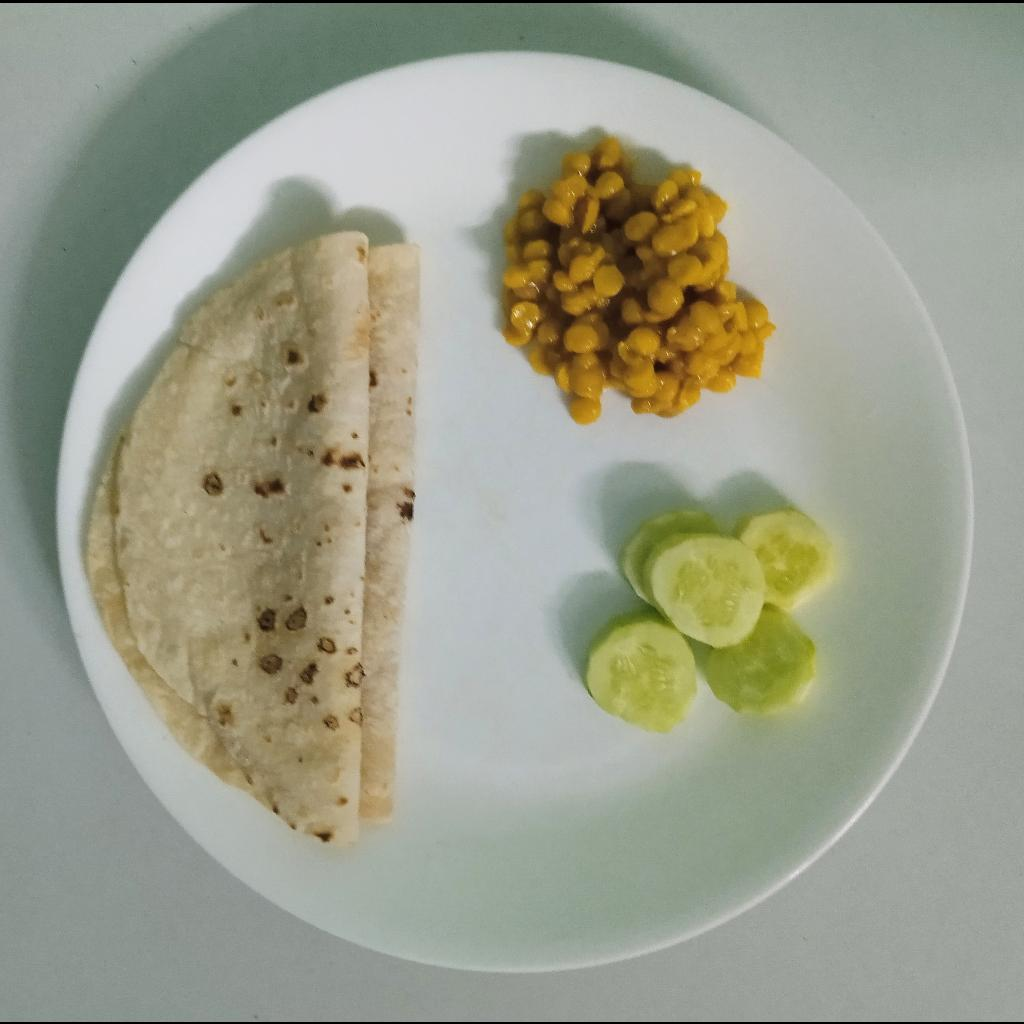cucumber: (584, 506, 837, 738)
daal: (500, 135, 779, 426)
ruti: (86, 230, 422, 845)
